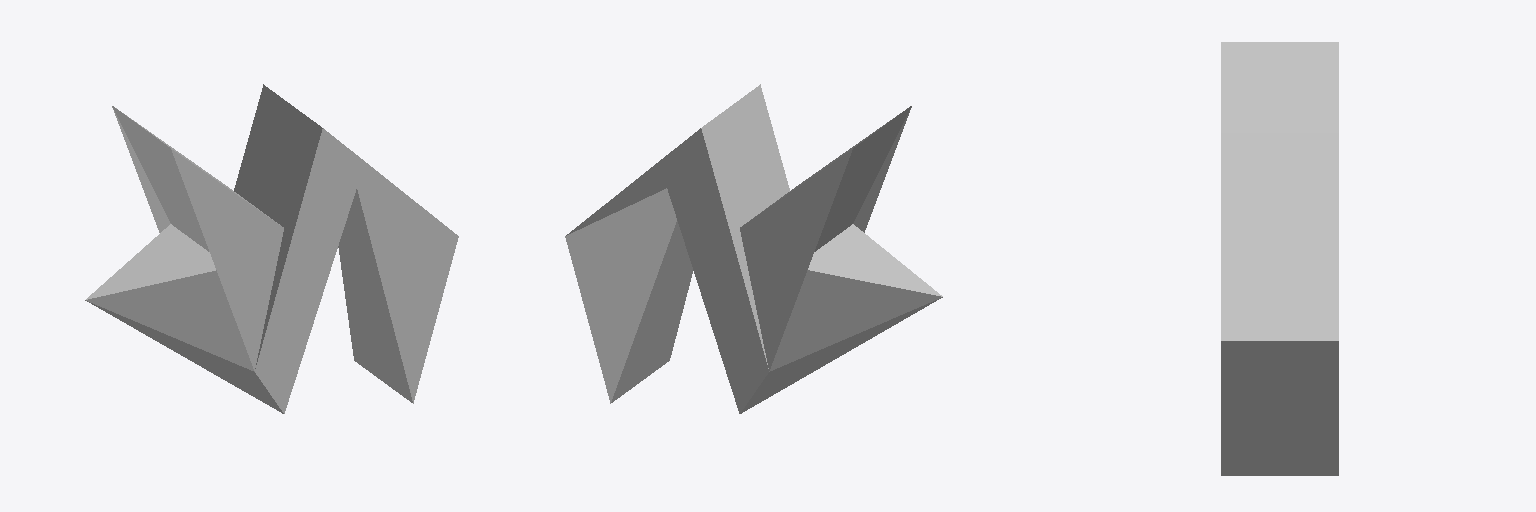
The model's file is funky_plane_3d.obj.
The picture shows the model from 3 angles: view 1: azimuth 30°, elevation 25°; view 2: azimuth 150°, elevation 25°; view 3: azimuth 270°, elevation 25°; orthographic projection.
Visible parts, largest first — view 1: Plane; view 2: Plane; view 3: Plane.
Boxes of the visible parts, box(x1,y1,x2,y2) form: Plane: box(85, 84, 458, 413); Plane: box(565, 84, 942, 413); Plane: box(1221, 42, 1338, 475).
Bounding box in the file's own units: 3.65 × 3.17 × 1.08.